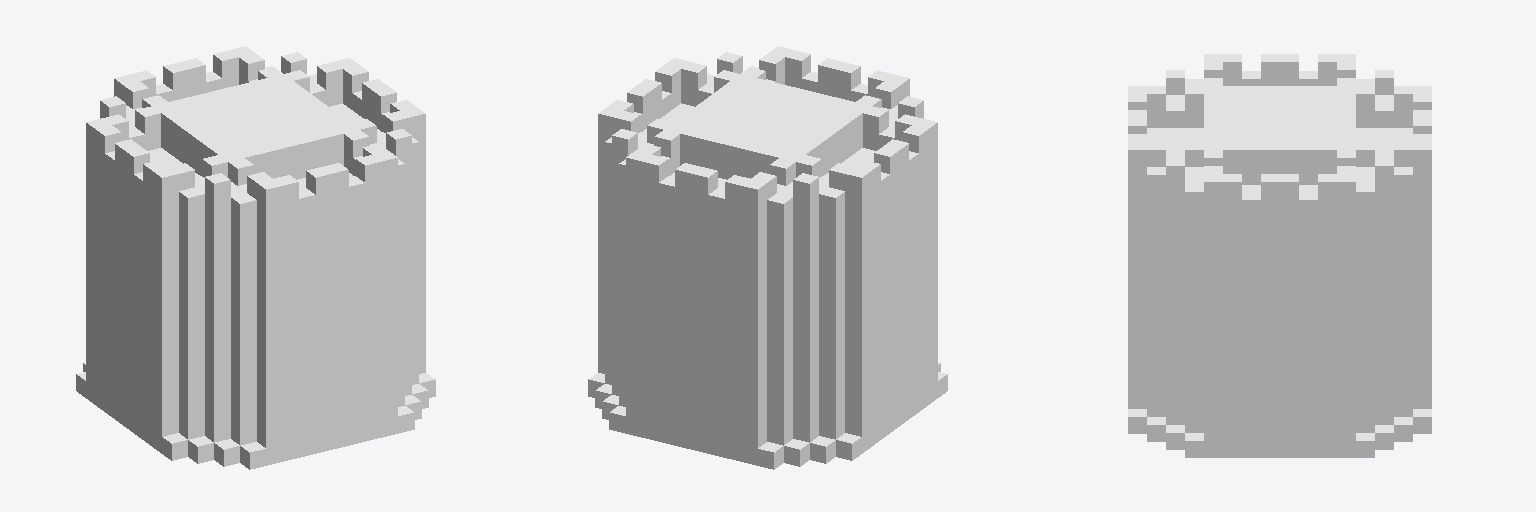
File: WallJunction_Tall.obj
The picture shows the model from 3 angles: view 1: azimuth 30°, elevation 25°; view 2: azimuth 150°, elevation 25°; view 3: azimuth 270°, elevation 25°; orthographic projection.
Visible parts, largest first — view 1: WallJunction_Tall; view 2: WallJunction_Tall; view 3: WallJunction_Tall.
Part boxes in pixels (x1,y1,x2,y2): WallJunction_Tall: (76, 46, 435, 469); WallJunction_Tall: (588, 46, 947, 469); WallJunction_Tall: (1128, 54, 1431, 457).
Size of the model in its own units: 16 by 16 by 16.